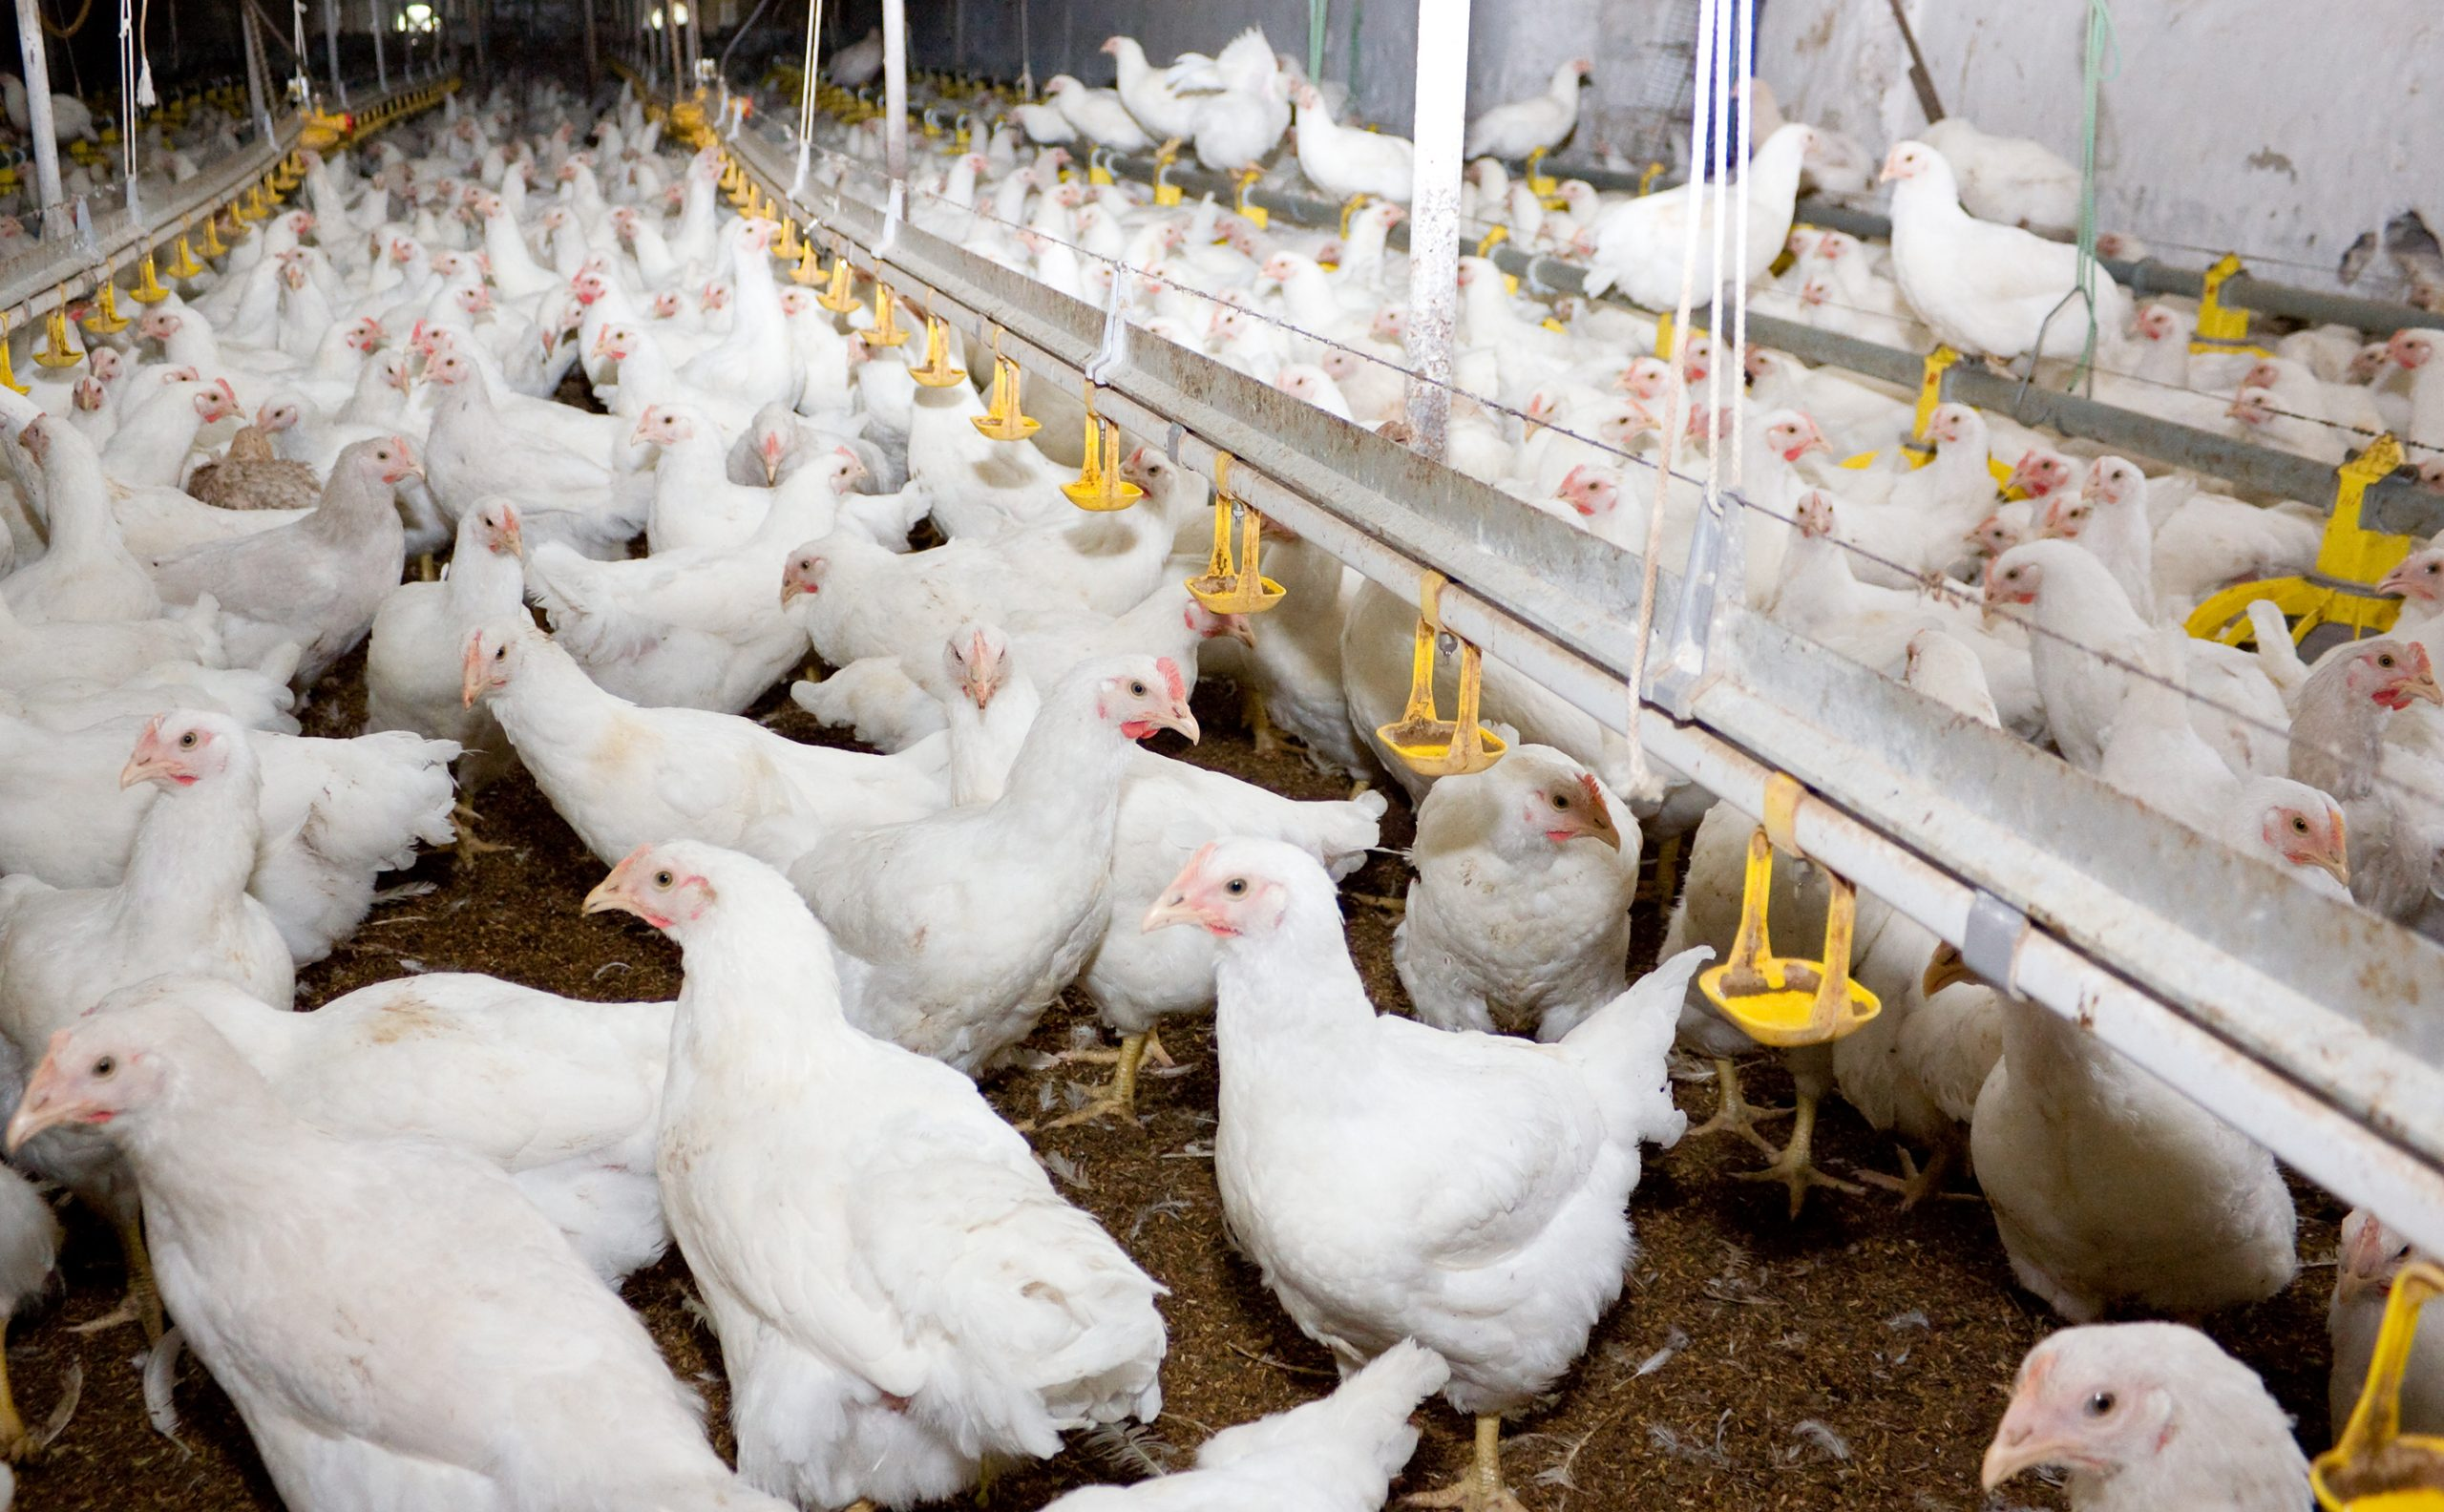Healthy: (559, 826, 1191, 1488), (16, 979, 693, 1505), (1124, 824, 1727, 1409), (826, 649, 1194, 1062), (5, 709, 325, 1041), (1402, 707, 1672, 1049), (1859, 120, 2159, 381), (347, 492, 567, 766), (1594, 91, 1831, 316)
